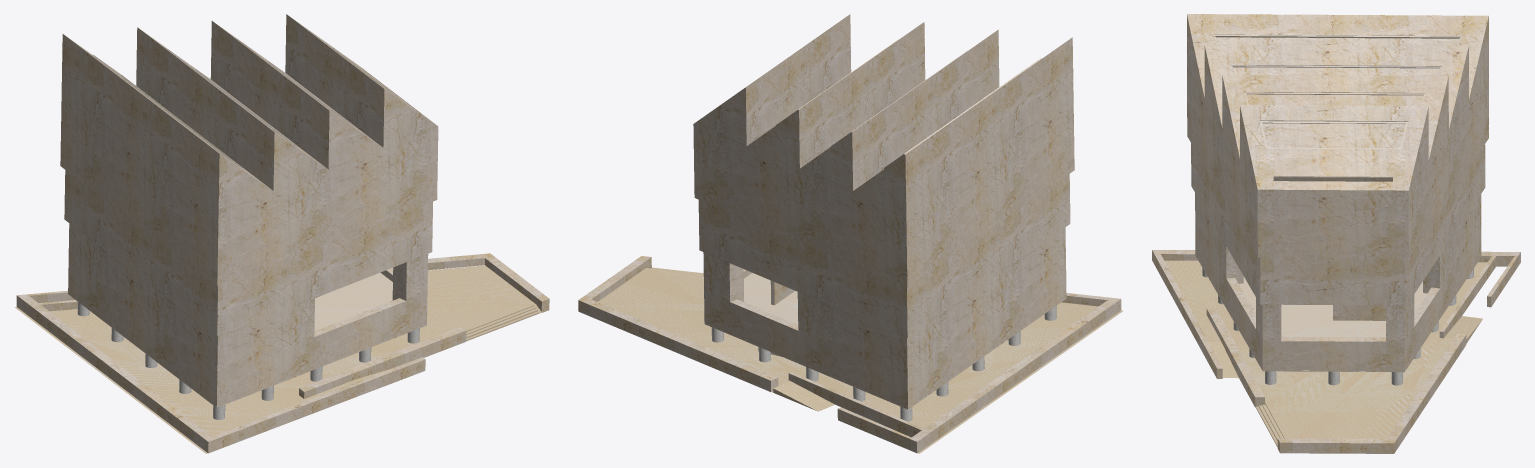
The model's file is MUSEOGROUP.dae.
The picture shows the model from 3 angles, left to right: view 1: azimuth 30°, elevation 25°; view 2: azimuth 150°, elevation 25°; view 3: azimuth 270°, elevation 25°; orthographic projection. The views are drawn at different scales.
Visible parts, largest first — view 1: ID3006; view 2: ID3006; view 3: ID3006.
Boxes of the visible parts, box(x1,y1,x2,y2) form: ID3006: box(15, 14, 549, 453); ID3006: box(578, 14, 1122, 453); ID3006: box(1152, 14, 1520, 453).
Size of the model in its own units: 269 by 177 by 222.
5 materials, 1 textured.
